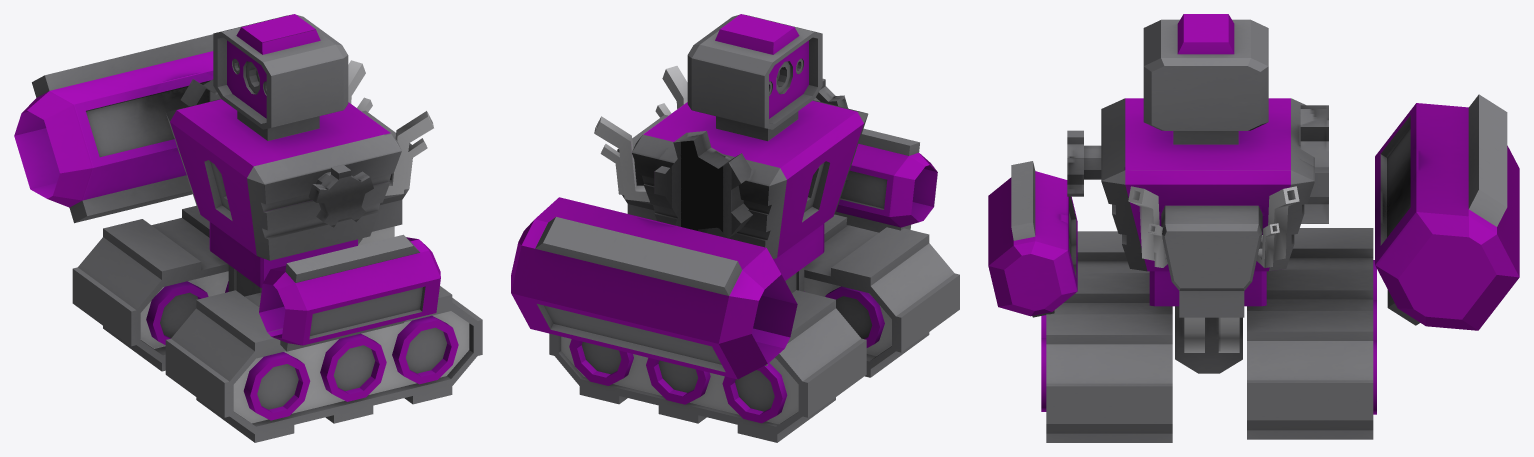
Rendered from Enemy2_Die9.obj.
3 views of the same model, side by side, from view 1: azimuth 30°, elevation 25°; view 2: azimuth 150°, elevation 25°; view 3: azimuth 270°, elevation 25° (orthographic). The views are drawn at different scales.
Visible parts, largest first — view 1: Object006, Object013, Object011, Object014, Object012, Object010, Object008, Object009; view 2: Object011, Object006, Object013, Object012, Object014, Object009, Object010, Object008; view 3: Object006, Object011, Object013, Object012, Object010, Object014, Object009, Object008.
Boxes of the visible parts, x1,y1,x2,y2 form: Object006: (72, 205, 482, 442); Object013: (165, 99, 401, 296); Object011: (14, 34, 213, 223); Object014: (259, 234, 440, 351); Object012: (213, 14, 348, 140); Object010: (348, 60, 433, 245); Object008: (308, 165, 373, 227); Object009: (180, 79, 220, 106); Object011: (511, 197, 797, 379); Object006: (549, 214, 959, 442); Object013: (632, 100, 868, 293); Object012: (687, 14, 822, 141); Object014: (834, 128, 937, 232); Object009: (654, 131, 752, 238); Object010: (594, 66, 687, 220); Object008: (813, 78, 848, 108); Object006: (1041, 228, 1376, 442); Object011: (1375, 94, 1519, 330); Object013: (1101, 98, 1314, 373); Object012: (1143, 14, 1268, 144); Object010: (1128, 186, 1299, 352); Object014: (988, 161, 1077, 317); Object009: (1300, 105, 1328, 223); Object008: (1067, 130, 1101, 196).
Bounding box in the file's own units: 87.45 × 108 × 144.
